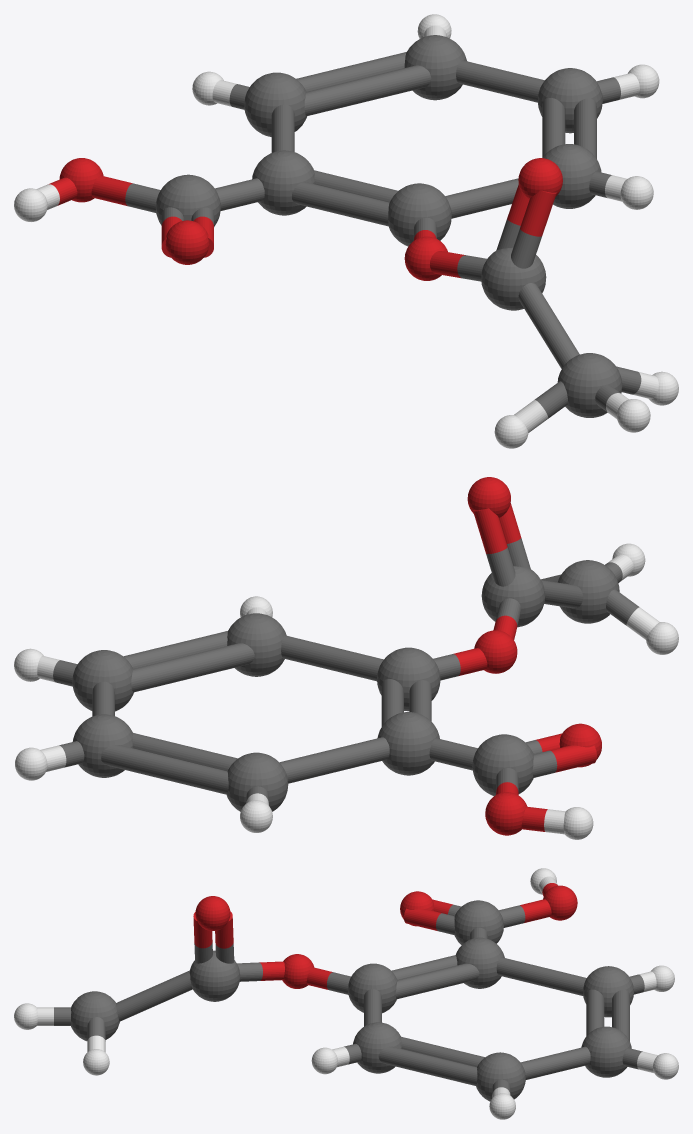
The model's file is AspirinaA.fbx.
3 renders of one model, top to bottom at view 1: azimuth 30°, elevation 25°; view 2: azimuth 150°, elevation 25°; view 3: azimuth 270°, elevation 25°, orthographic. The views are drawn at different scales.
Visible parts, largest first — view 1: Cylinder.011, Sphere.017, Sphere.014, Sphere.001, Sphere.002, Sphere.005, Sphere.015, Cylinder.003, Sphere.003, Sphere.004, Sphere.007, Cylinder.007 (+30 smaller); view 2: Cylinder.010, Cylinder.009, Sphere.001, Sphere.007, Sphere.003, Sphere.002, Cylinder.005, Sphere.004, Sphere.017, Cylinder.014, Sphere.005, Sphere.015 (+27 smaller); view 3: Cylinder.008, Sphere.005, Sphere.015, Cylinder.005, Sphere.004, Sphere.017, Sphere.014, Sphere.003, Sphere.001, Sphere.007, Cylinder.001, Cylinder.022 (+28 smaller).
Part boxes in pixels (bbox=[...]): Cylinder.011: bbox=[304, 65, 431, 115]; Sphere.017: bbox=[557, 353, 622, 417]; Sphere.014: bbox=[388, 183, 451, 246]; Sphere.001: bbox=[252, 150, 314, 215]; Sphere.002: bbox=[244, 72, 306, 136]; Sphere.005: bbox=[404, 35, 466, 100]; Sphere.015: bbox=[481, 247, 546, 310]; Cylinder.003: bbox=[292, 182, 389, 226]; Sphere.003: bbox=[543, 144, 601, 208]; Sphere.004: bbox=[537, 68, 602, 133]; Sphere.007: bbox=[155, 174, 220, 226]; Cylinder.007: bbox=[456, 60, 544, 102]; Cylinder.010: bbox=[101, 745, 228, 794]; Cylinder.009: bbox=[131, 643, 254, 692]; Sphere.001: bbox=[377, 712, 439, 775]; Sphere.007: bbox=[472, 734, 533, 795]; Sphere.003: bbox=[227, 613, 286, 676]; Sphere.002: bbox=[226, 752, 288, 811]; Cylinder.005: bbox=[279, 737, 389, 783]; Sphere.004: bbox=[72, 650, 133, 711]; Sphere.017: bbox=[558, 560, 619, 623]; Cylinder.014: bbox=[281, 635, 383, 681]; Sphere.005: bbox=[72, 714, 132, 777]; Sphere.015: bbox=[481, 566, 545, 627]; Cylinder.008: bbox=[378, 1046, 477, 1085]; Sphere.005: bbox=[581, 1026, 631, 1077]; Sphere.015: bbox=[189, 950, 240, 1001]; Cylinder.005: bbox=[496, 957, 586, 995]; Sphere.004: bbox=[476, 1052, 525, 1101]; Sphere.017: bbox=[71, 991, 119, 1041]; Sphere.014: bbox=[348, 963, 397, 1013]; Sphere.003: bbox=[353, 1022, 401, 1073]; Sphere.001: bbox=[456, 937, 504, 988]; Sphere.007: bbox=[454, 900, 503, 945]; Cylinder.001: bbox=[395, 963, 479, 999]; Cylinder.022: bbox=[116, 970, 192, 1021].
Size of the model in its own units: 910 by 294 by 1083.
